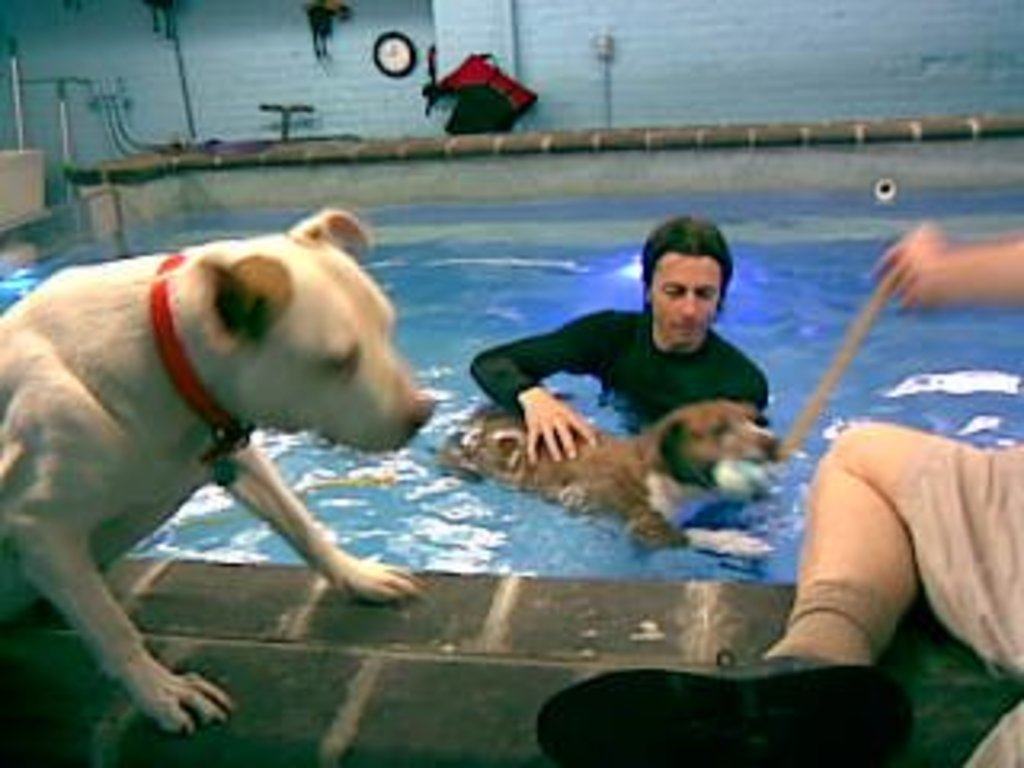face: (638, 231, 737, 357)
